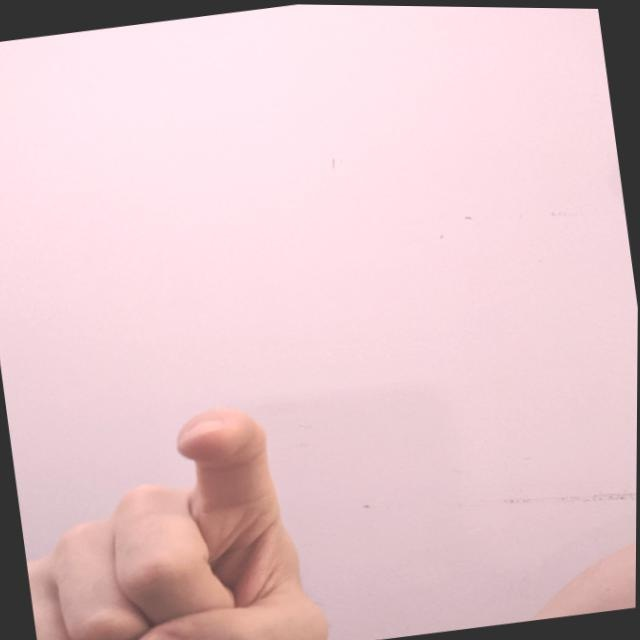Z: (8, 386, 341, 639)
